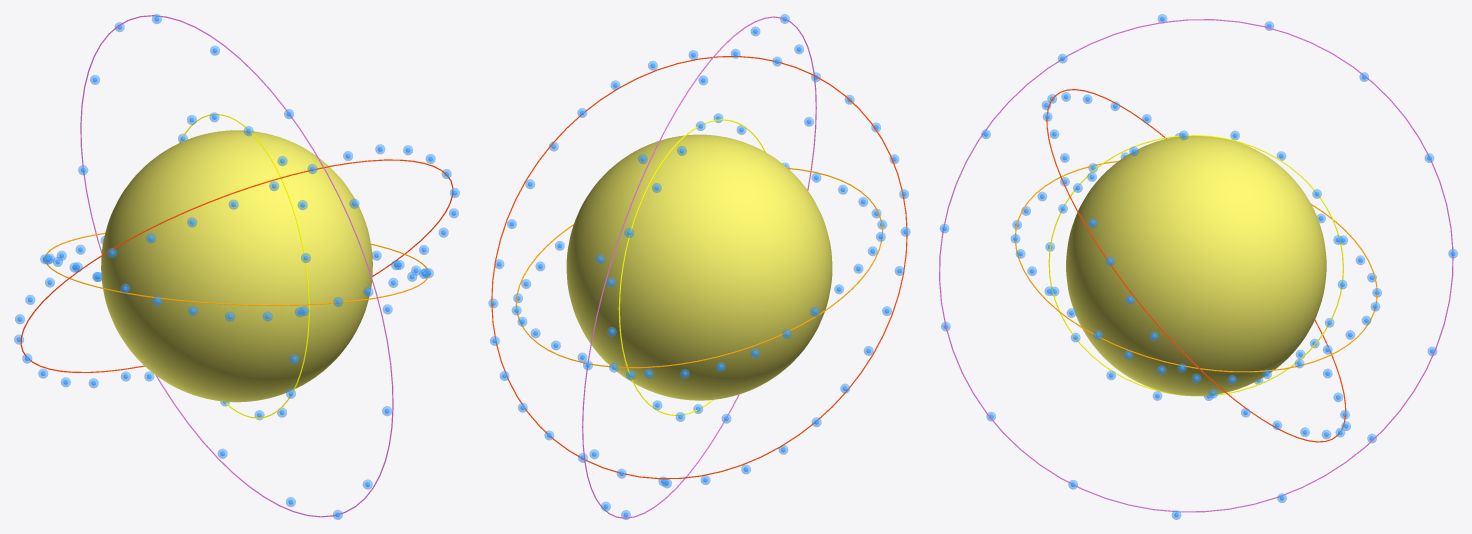
The picture shows the model from 3 angles, left to right: view 1: azimuth 30°, elevation 25°; view 2: azimuth 150°, elevation 25°; view 3: azimuth 270°, elevation 25°; orthographic projection. The views are drawn at different scales.
Visible parts, largest first — view 1: Bh, object 191, object 126, object 61, object 24; view 2: Bh, object 126, object 191, object 61, object 24; view 3: Bh, object 191, object 24, object 61, object 126.
Boxes of the visible parts, x1,y1,x2,y2 form: Bh: (101,130,372,402); object 191: (80,15,393,517); object 126: (20,159,453,372); object 61: (44,232,428,305); object 24: (179,114,309,418); Bh: (566,134,832,400); object 126: (491,56,907,479); object 191: (582,16,816,518); object 61: (515,168,882,368); object 24: (618,119,765,415); Bh: (1066,136,1326,395); object 191: (939,19,1453,512); object 24: (1048,135,1343,396); object 61: (1015,160,1377,372); object 126: (1046,89,1346,442).
Size of the model in its own units: 7.35 by 8.38 by 8.46.
